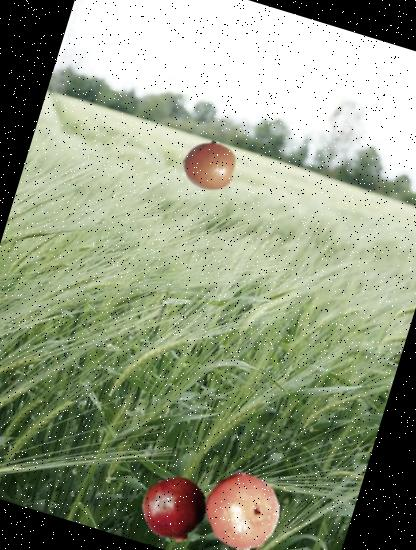Clementine: (192, 459, 293, 550)
Pomegranate: (136, 468, 216, 548)
Tangelo: (176, 131, 243, 198)
